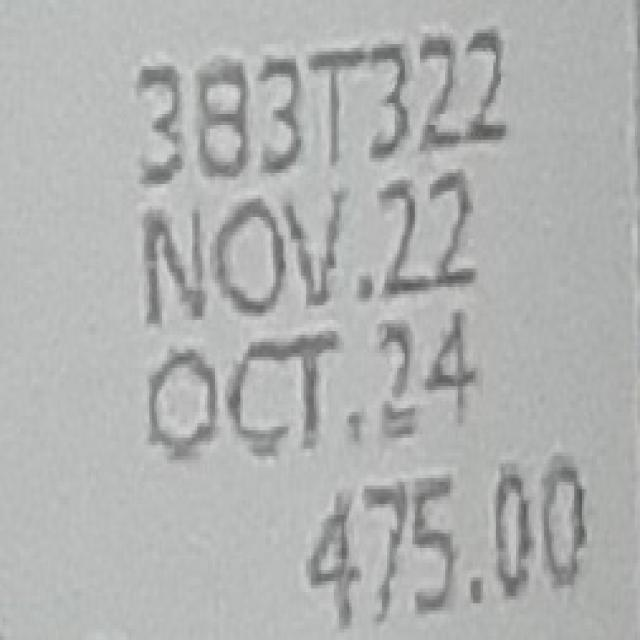sentence: (136, 29, 505, 183), (142, 171, 475, 323), (308, 456, 585, 628), (149, 313, 476, 455)
